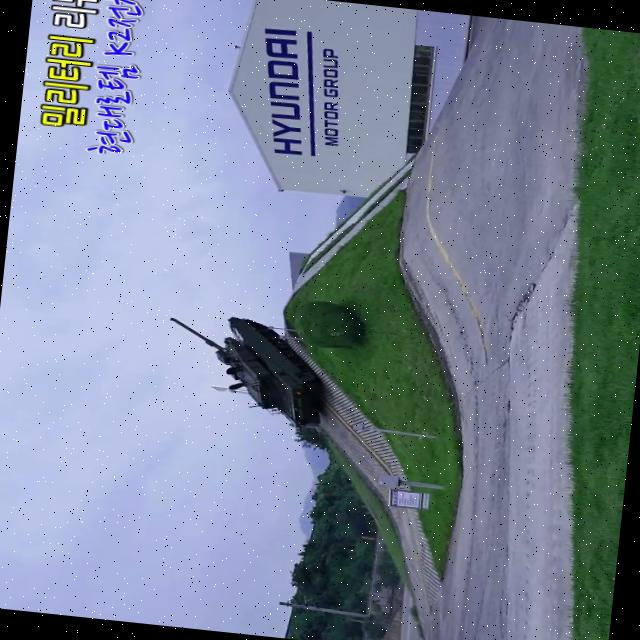korea tank: (152, 305, 336, 442)
